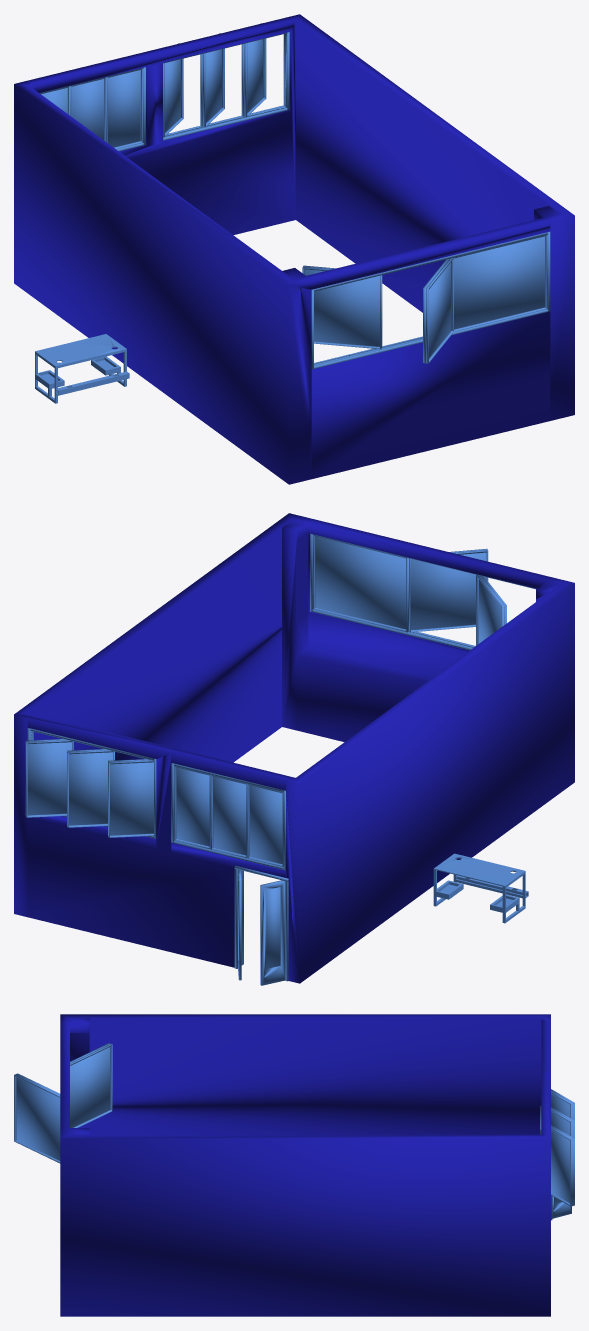
File: nurs.obj
The picture shows the model from 3 angles, top to bottom: view 1: azimuth 30°, elevation 25°; view 2: azimuth 150°, elevation 25°; view 3: azimuth 270°, elevation 25°; orthographic projection. The views are drawn at different scales.
Parts seen in each view (by area): view 1: room, streetwindow, hole_window_1, hole_window_2, desk; view 2: room, streetwindow, hole_window_1, hole_window_2, classRoom, desk; view 3: room, streetwindow, hole_window_1, classRoom.
Boxes of the visible parts, x1,y1,x2,y2 form: room: (14,14,574,484); streetwindow: (302,231,550,369); hole_window_1: (163,23,289,140); hole_window_2: (39,67,145,151); desk: (35,334,129,403); room: (14,513,574,983); streetwindow: (310,533,536,650); hole_window_1: (25,728,156,838); hole_window_2: (171,763,285,870); classRoom: (234,865,288,985); desk: (433,853,528,923); room: (60,1014,550,1316); streetwindow: (14,1043,112,1163); hole_window_1: (551,1089,574,1206); classRoom: (540,1106,571,1220).
Bounding box in the file's own units: 312 × 157 × 450.
